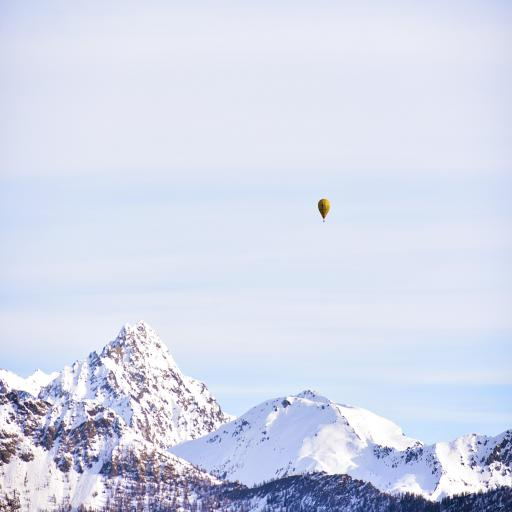hot air ballon: (315, 193, 334, 227)
